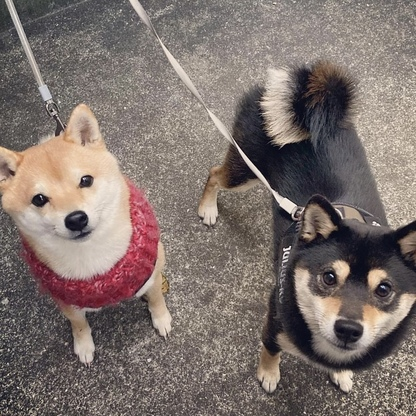shiba: (193, 58, 416, 398), (1, 94, 178, 367)
